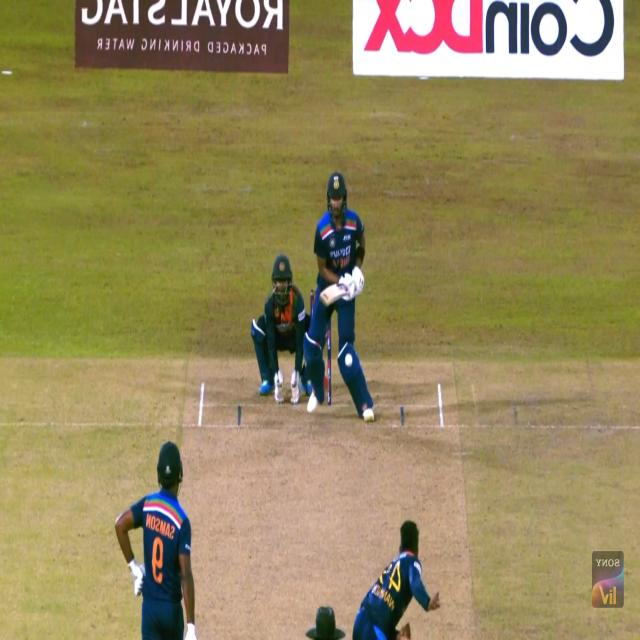ball: (344, 352, 354, 368)
